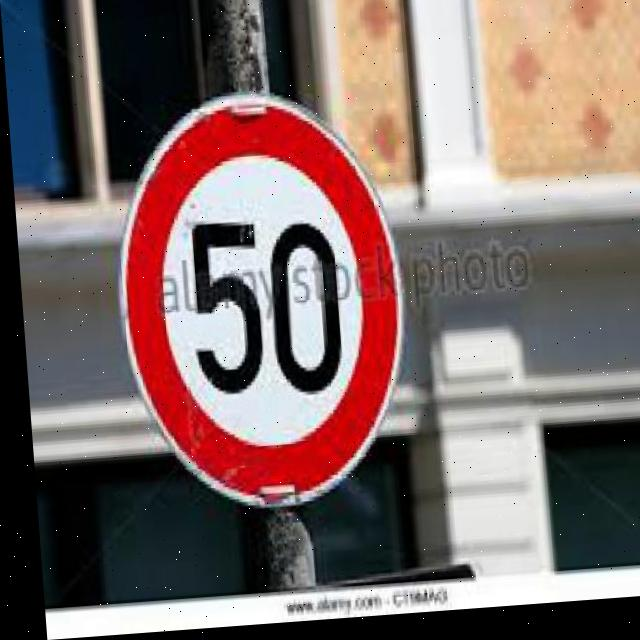Speed limit 50: (101, 86, 415, 523)
